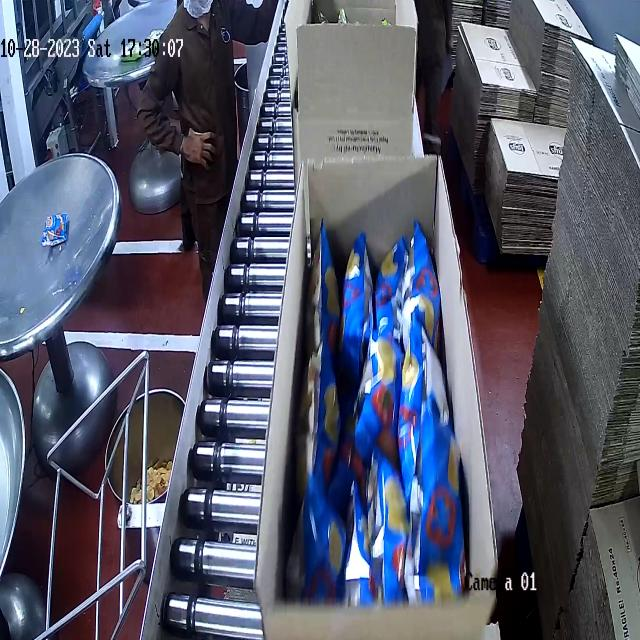PAPRIKA: (298, 204, 470, 588)
